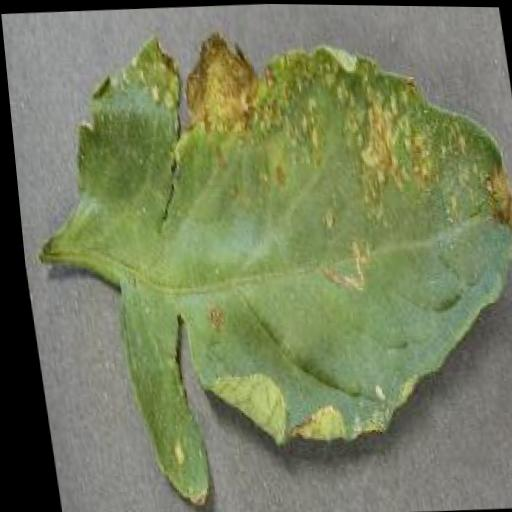Bacterial Spot: (19, 11, 512, 512)
